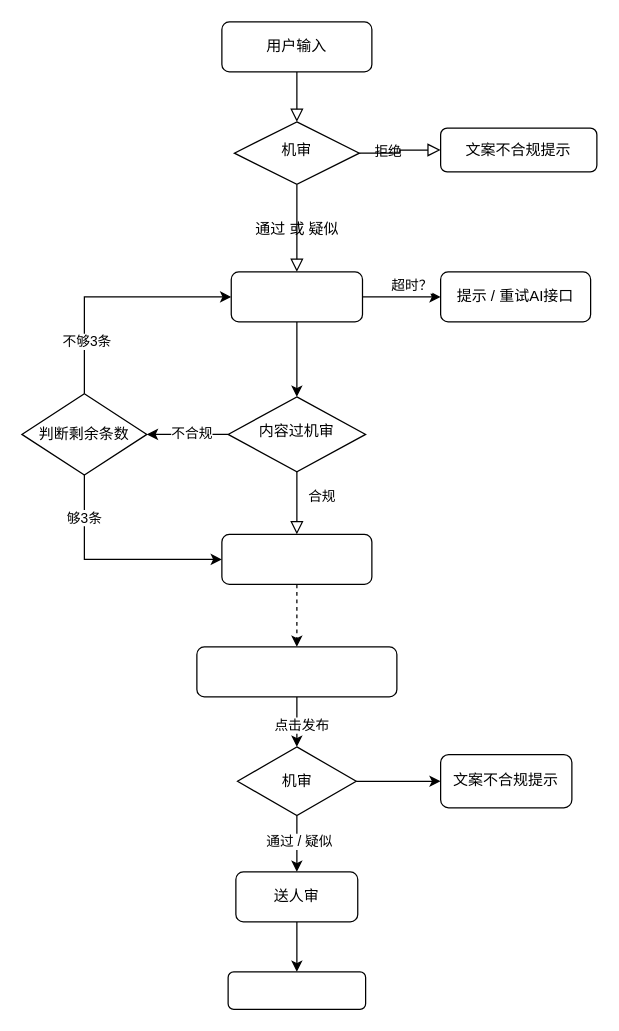
Some shapes in this 619 by 1031 pixel diagram are drawn without their labels. Here are the shapes that lost their labels. From the top down, the centre of each, then its label:
[296,296]: AI 生成5条
[296,558]: 显示给用户
[296,671]: 选择某条回显输入框； 可二次修改
[296,990]: 发布成功
